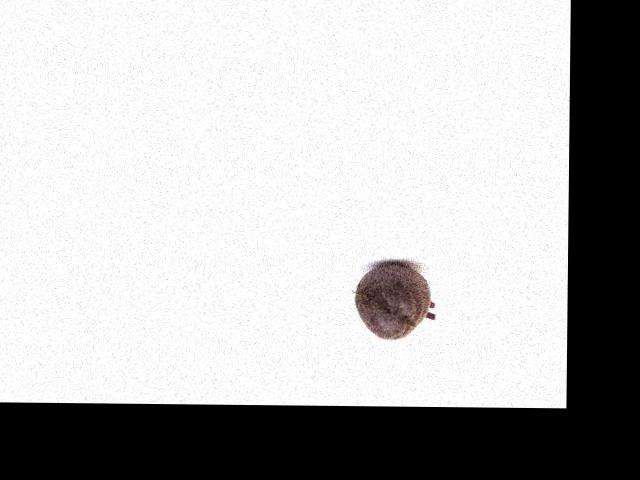beet: (353, 261, 434, 340)
